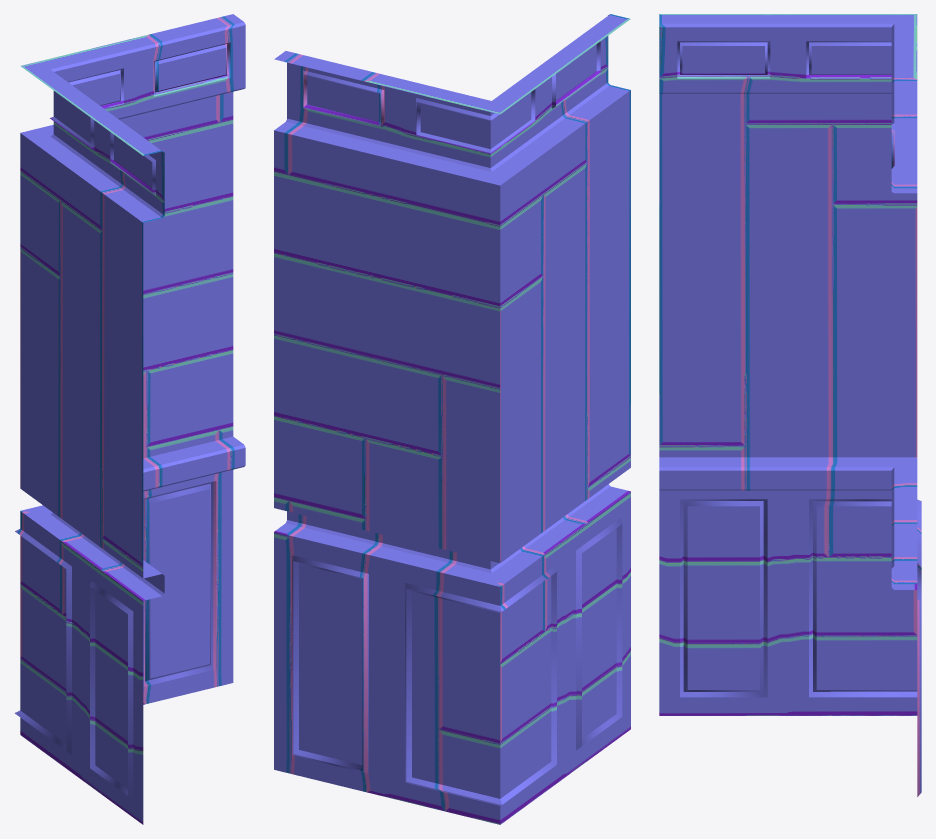
Rendered from Foyer Wall Inner Corner NEW.fbx.
3 renders of one model, left to right at view 1: azimuth 30°, elevation 25°; view 2: azimuth 150°, elevation 25°; view 3: azimuth 270°, elevation 25°, orthographic. The views are drawn at different scales.
Parts seen in each view (by area): view 1: Inner_Corner; view 2: Inner_Corner; view 3: Inner_Corner.
Boxes of the visible parts, <box> form: Inner_Corner: <box>14,14,245,824</box>; Inner_Corner: <box>274,14,630,824</box>; Inner_Corner: <box>659,14,921,796</box>.
Size of the model in its own units: 102 by 300 by 102.
